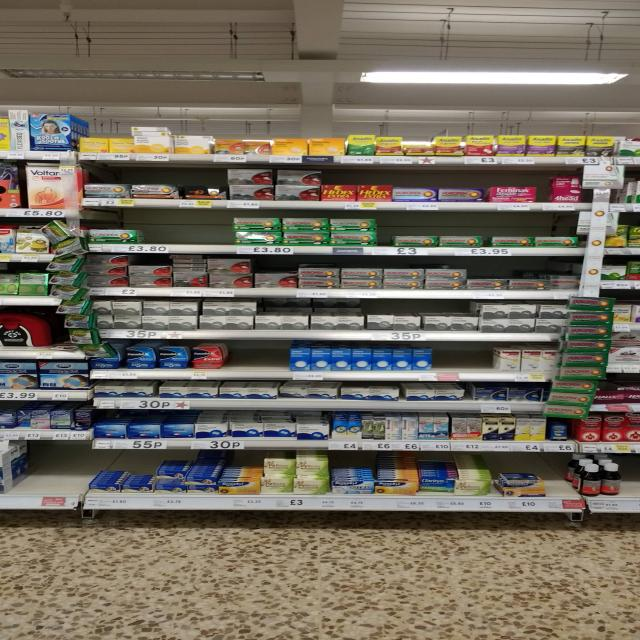100- O.O.S: (141, 210, 232, 252), (35, 441, 88, 510), (229, 342, 289, 378), (436, 343, 490, 381), (546, 455, 568, 510), (623, 456, 640, 512)
